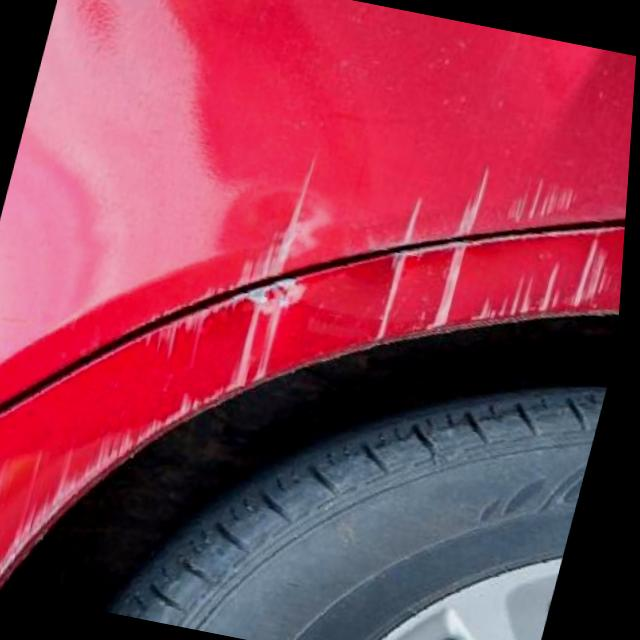Scratch: (0, 131, 625, 592)
